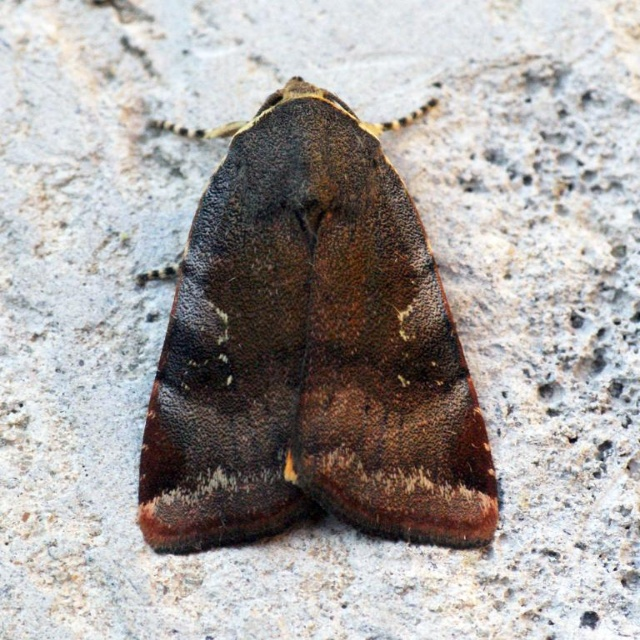Moths and butterflies: (119, 71, 502, 554)
